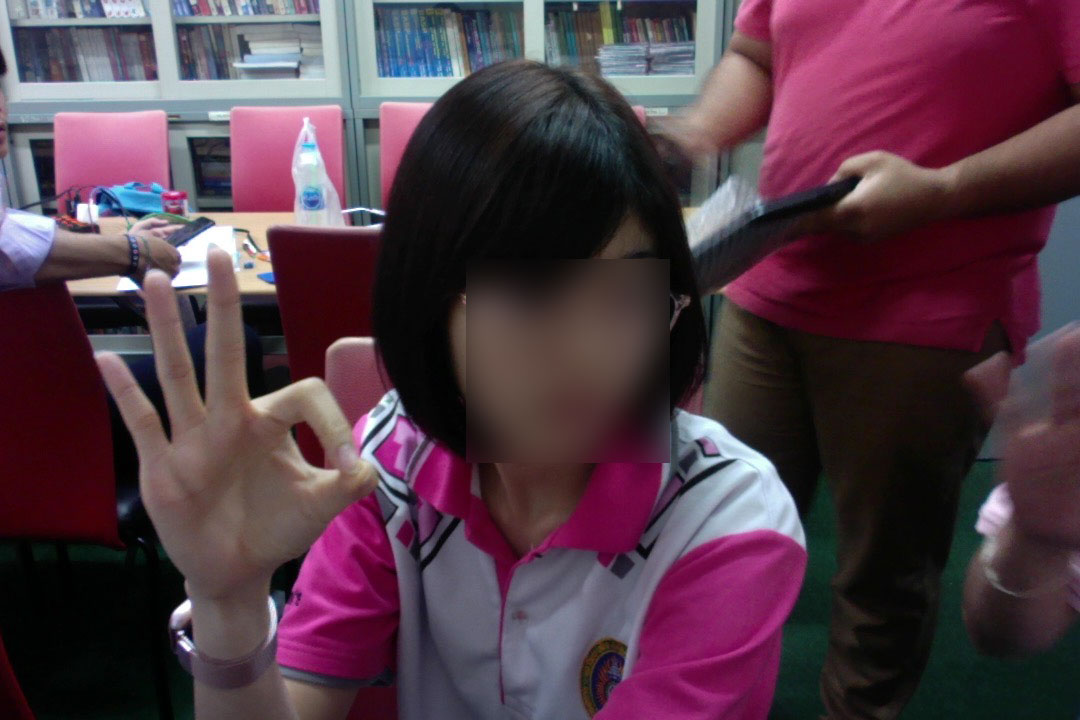for: (83, 234, 392, 603)
